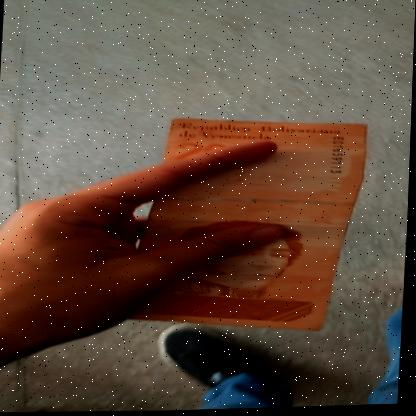twenty-front-vef: (129, 114, 368, 337)
